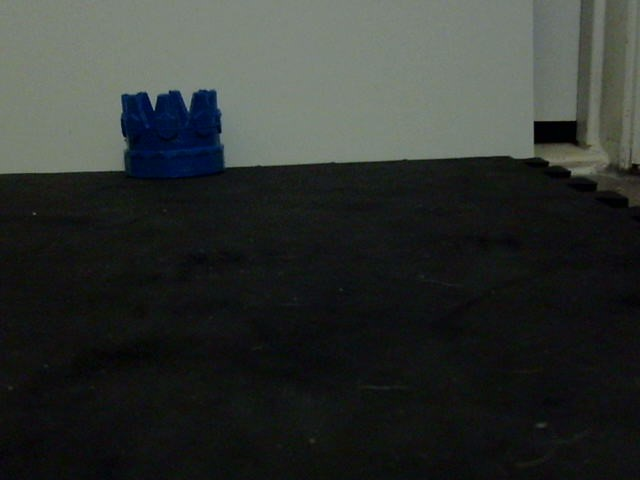crown: (117, 89, 227, 179)
